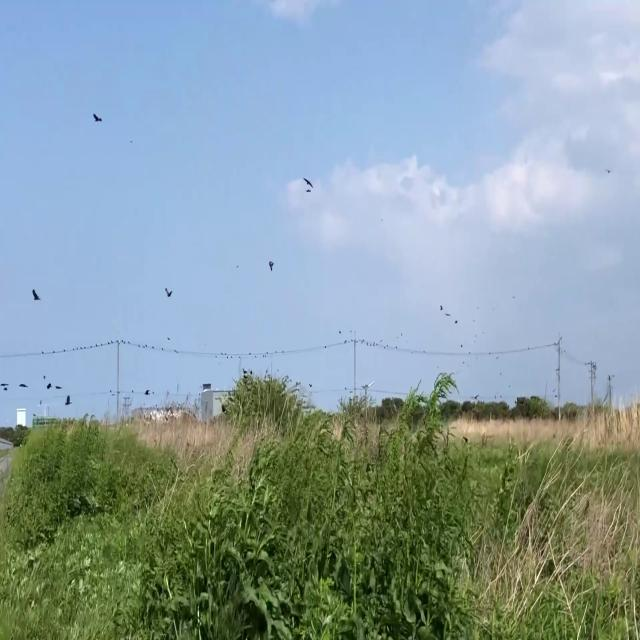bird: (302, 173, 312, 195), (32, 283, 40, 306), (92, 108, 101, 128), (165, 283, 173, 301), (45, 376, 54, 392), (0, 377, 8, 394), (20, 377, 28, 391), (268, 255, 274, 273)
